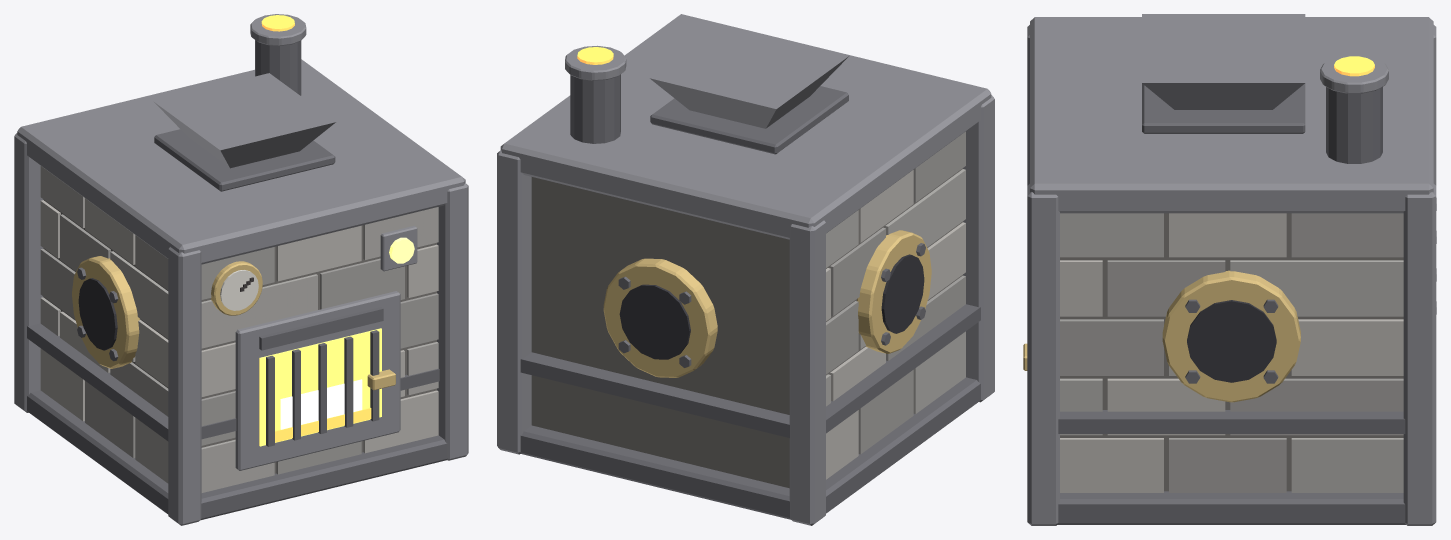
File: autofurnace_on.gltf
3 views of the same model, side by side, from view 1: azimuth 30°, elevation 25°; view 2: azimuth 150°, elevation 25°; view 3: azimuth 270°, elevation 25° (orthographic). The views are drawn at different scales.
Visible parts, largest first — view 1: Autofurnace_on; view 2: Autofurnace_on; view 3: Autofurnace_on.
Boxes of the visible parts, x1,y1,x2,y2 form: Autofurnace_on: (14,14,468,525); Autofurnace_on: (497,14,994,525); Autofurnace_on: (1023,14,1436,525).
Bounding box in the file's own units: 1 × 1.16 × 1.01.
